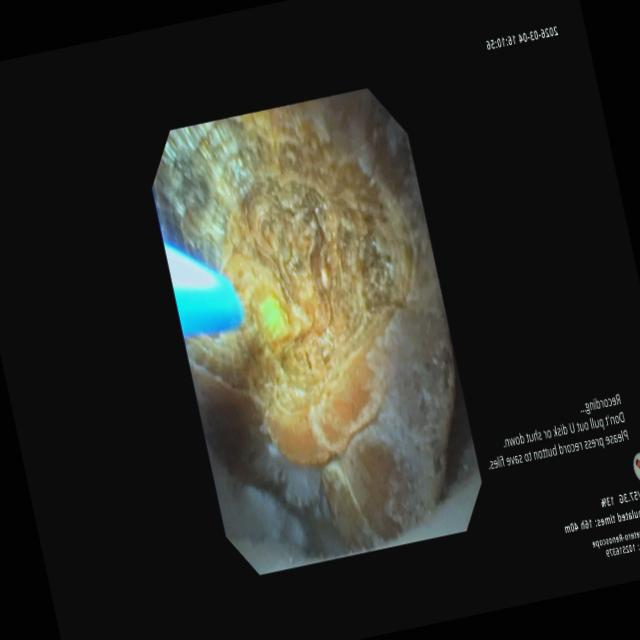laser_dot: (259, 295, 289, 339)
stone-new: (153, 89, 455, 548)
